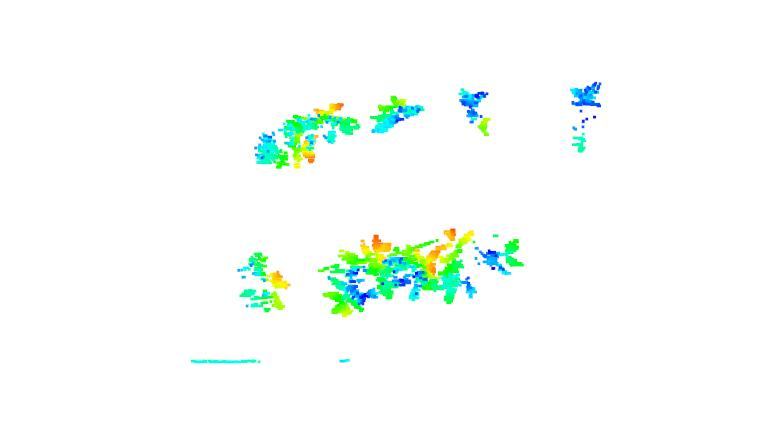chickpea: (422, 221, 523, 305), (344, 231, 426, 307), (249, 119, 320, 174), (234, 251, 289, 315), (319, 260, 377, 316), (307, 104, 365, 145), (457, 87, 502, 139), (371, 94, 424, 137)
